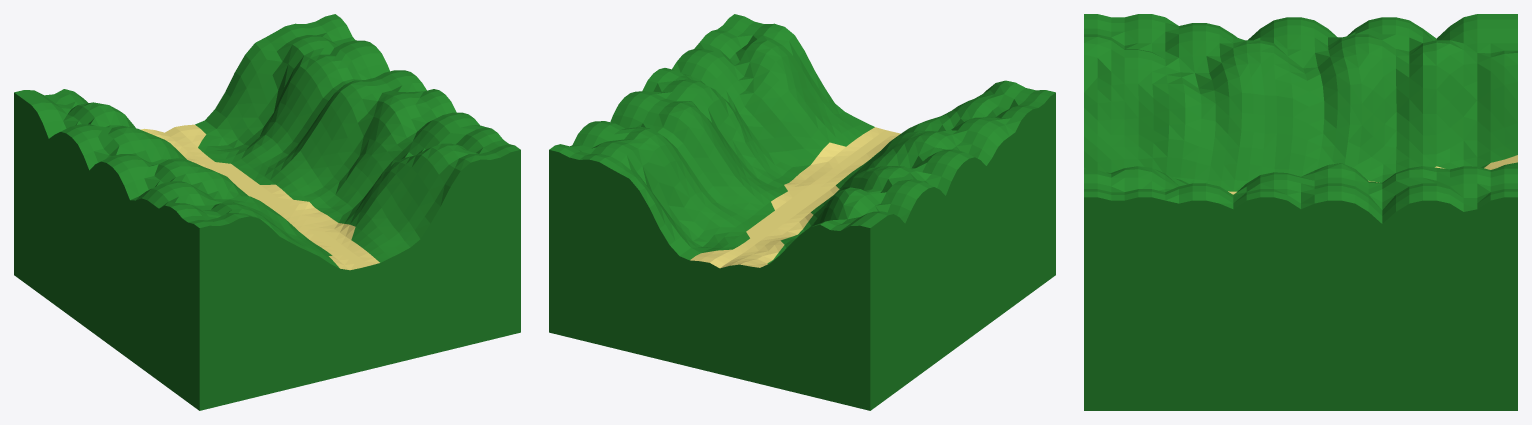
File: Terrain - puzzle tutorial1.fbx
The picture shows the model from 3 angles, left to right: view 1: azimuth 30°, elevation 25°; view 2: azimuth 150°, elevation 25°; view 3: azimuth 270°, elevation 25°; orthographic projection. The views are drawn at different scales.
Visible parts, largest first — view 1: Cube.001; view 2: Cube.001; view 3: Cube.001.
Part boxes in pixels (<box>): Cube.001: <box>14,14,520,410</box>; Cube.001: <box>549,14,1055,410</box>; Cube.001: <box>1084,14,1517,410</box>.
Bounding box in the file's own units: 5000 × 2718 × 5000.
